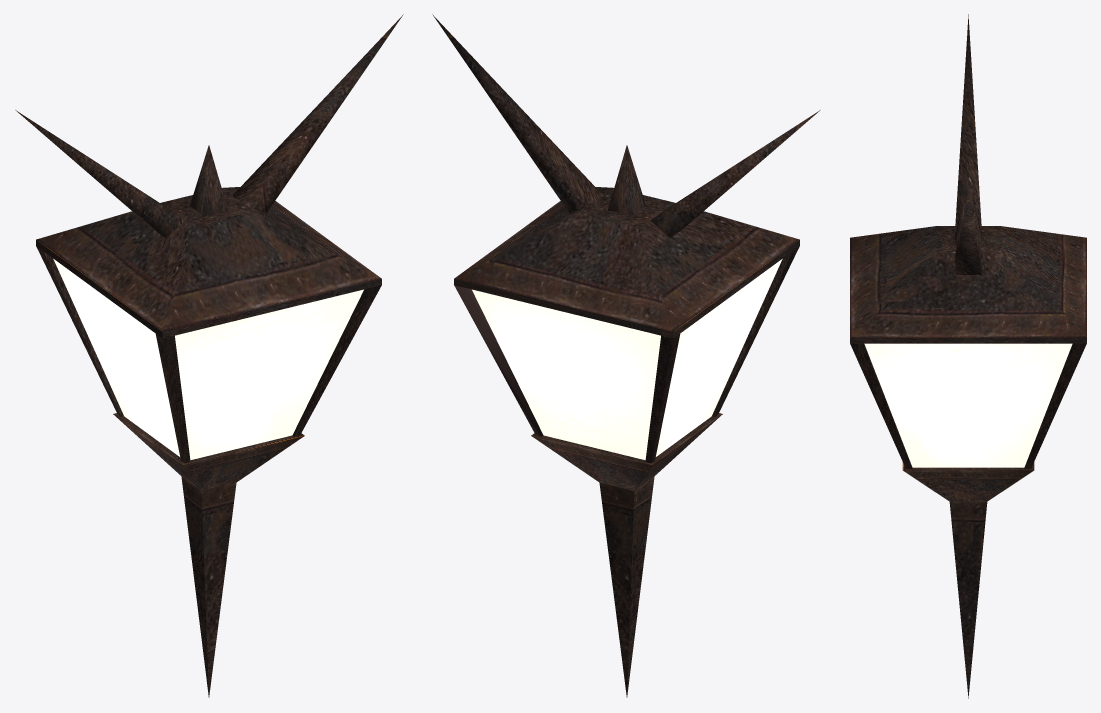
Rendered from electric_plain1_unattached.gltf.
3 views of the same model, side by side, from view 1: azimuth 30°, elevation 25°; view 2: azimuth 150°, elevation 25°; view 3: azimuth 270°, elevation 25° (orthographic). The views are drawn at different scales.
Visible parts, largest first — view 1: Wallight1.4; view 2: Wallight1.4; view 3: Wallight1.4.
Part boxes in pixels (left/top/right/bottom): Wallight1.4: left=15, top=14, right=403, bottom=697; Wallight1.4: left=432, top=14, right=820, bottom=697; Wallight1.4: left=850, top=14, right=1086, bottom=698.
Bounding box in the file's own units: 0.5803 × 0.9068 × 0.3264.
Materials: 2 (2 with a texture image).
